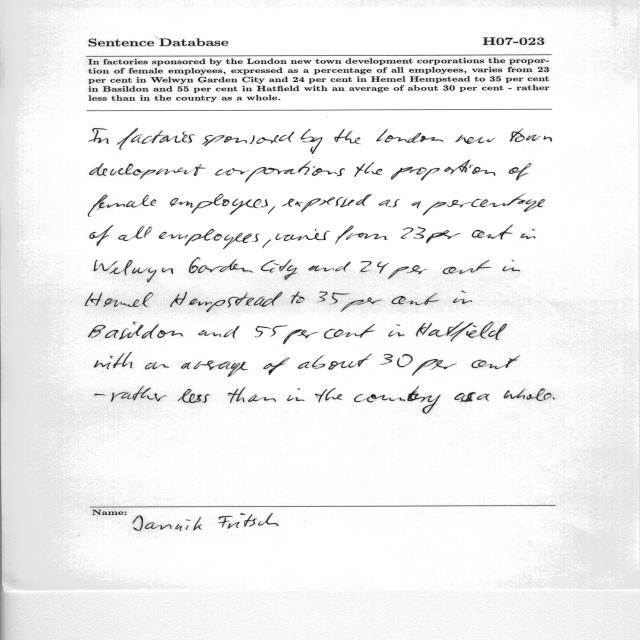word: (215, 161, 345, 182), (423, 194, 545, 216), (354, 386, 441, 414), (170, 292, 283, 312), (391, 160, 496, 180), (170, 194, 268, 215), (159, 229, 259, 249), (90, 163, 206, 179), (416, 322, 507, 342), (116, 128, 195, 150), (94, 260, 173, 282), (282, 194, 372, 212), (88, 322, 183, 339), (89, 195, 157, 217), (202, 132, 294, 146), (298, 354, 372, 370), (181, 360, 248, 377), (86, 292, 154, 307), (189, 258, 253, 273), (376, 129, 443, 143), (336, 226, 388, 244), (111, 387, 167, 402), (324, 324, 375, 339), (261, 259, 297, 280), (412, 359, 456, 376), (228, 388, 276, 403), (443, 260, 492, 274), (94, 352, 133, 369), (276, 229, 330, 241), (471, 356, 520, 369), (504, 388, 552, 401), (472, 225, 513, 240), (341, 297, 382, 312), (510, 128, 552, 142), (392, 293, 440, 305), (301, 129, 323, 154), (388, 265, 427, 279), (199, 326, 240, 339), (283, 329, 318, 344), (118, 226, 152, 241), (263, 357, 290, 375), (90, 225, 113, 246), (426, 230, 461, 243), (178, 389, 210, 403), (308, 262, 351, 272), (317, 292, 350, 305), (380, 354, 413, 367), (355, 162, 383, 177), (315, 388, 342, 403), (255, 326, 288, 338), (335, 129, 361, 144), (360, 261, 389, 274), (509, 163, 531, 180), (456, 135, 494, 144), (89, 128, 109, 144), (401, 226, 425, 239), (453, 291, 472, 304), (287, 388, 305, 401), (388, 324, 405, 337), (454, 392, 476, 402), (502, 260, 520, 271), (291, 291, 305, 304), (379, 199, 400, 207), (145, 362, 169, 369), (521, 229, 536, 239), (477, 394, 489, 401), (263, 239, 271, 248), (412, 202, 421, 209), (268, 206, 275, 214), (95, 394, 106, 396), (553, 398, 555, 400)
